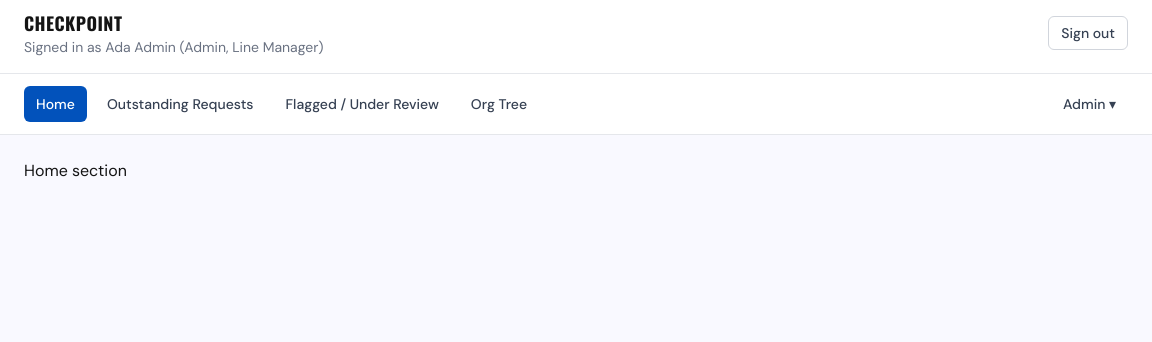
Test case: DashboardLayout › shows the Admin nav submenu for a person holding the Admin role, revealing its links on open
expect the link "departments" is not shown: met
Click the button "Admin ▾": (1089, 104) [1051,86,1128,122]
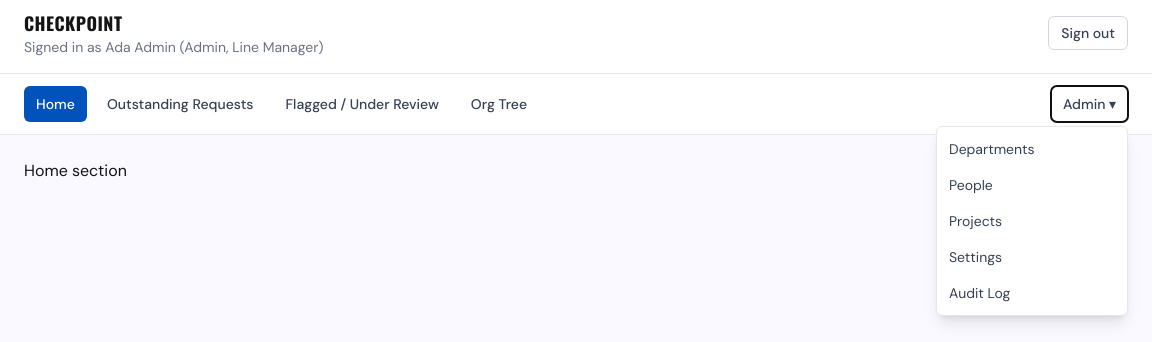
expect the link "Departments" is shown: met, box [949,140,1035,158]
expect the link "People" is shown: met, box [949,176,993,194]
expect the link "Projects" is shown: met, box [949,212,1002,230]
